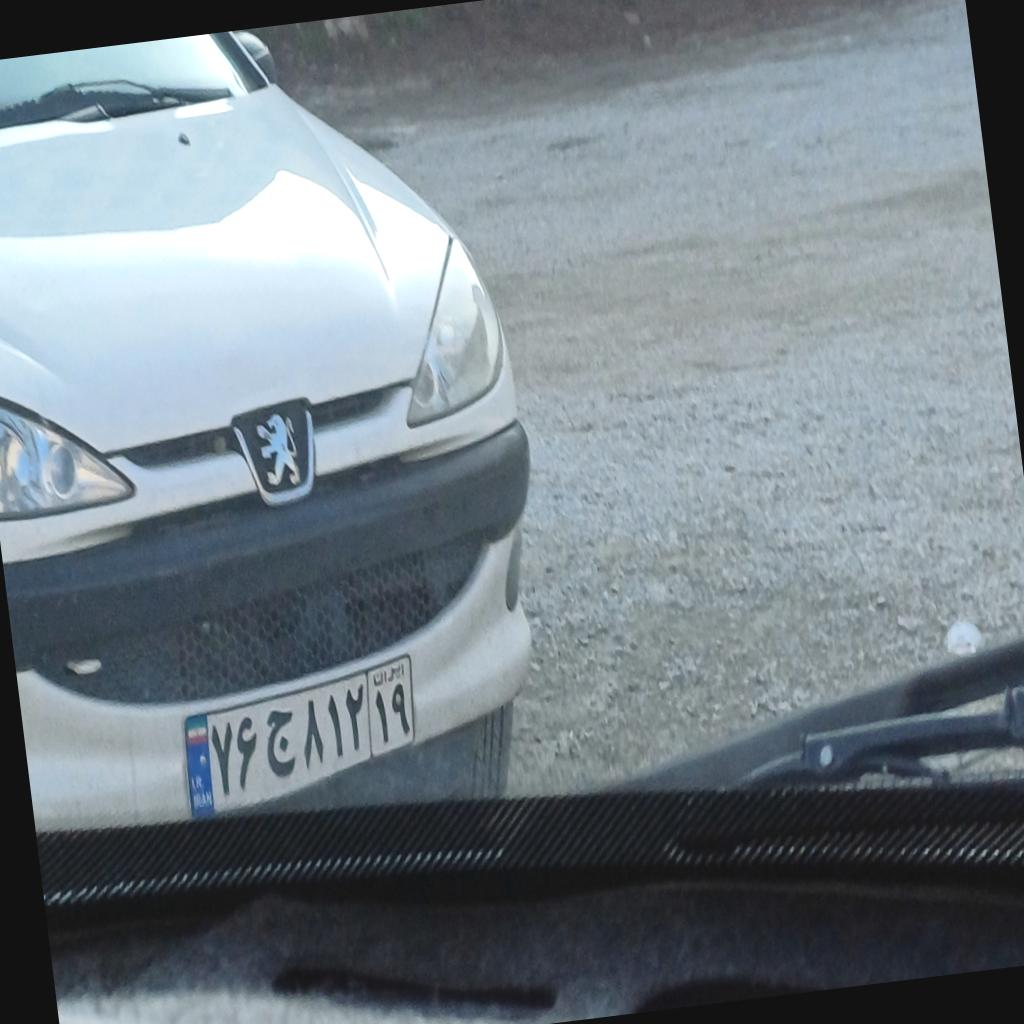Plates: (175, 654, 427, 822)
